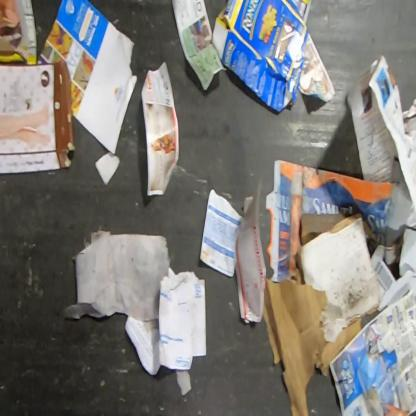cardboard: (261, 211, 381, 415), (265, 159, 398, 283), (211, 0, 313, 114), (0, 62, 76, 174), (371, 227, 415, 313), (0, 0, 38, 66)
